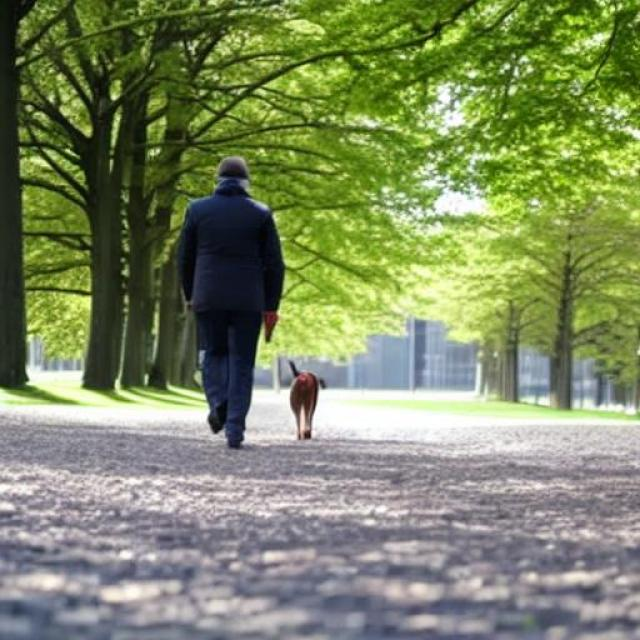Unleashed_Dog: (199, 293, 328, 441)
